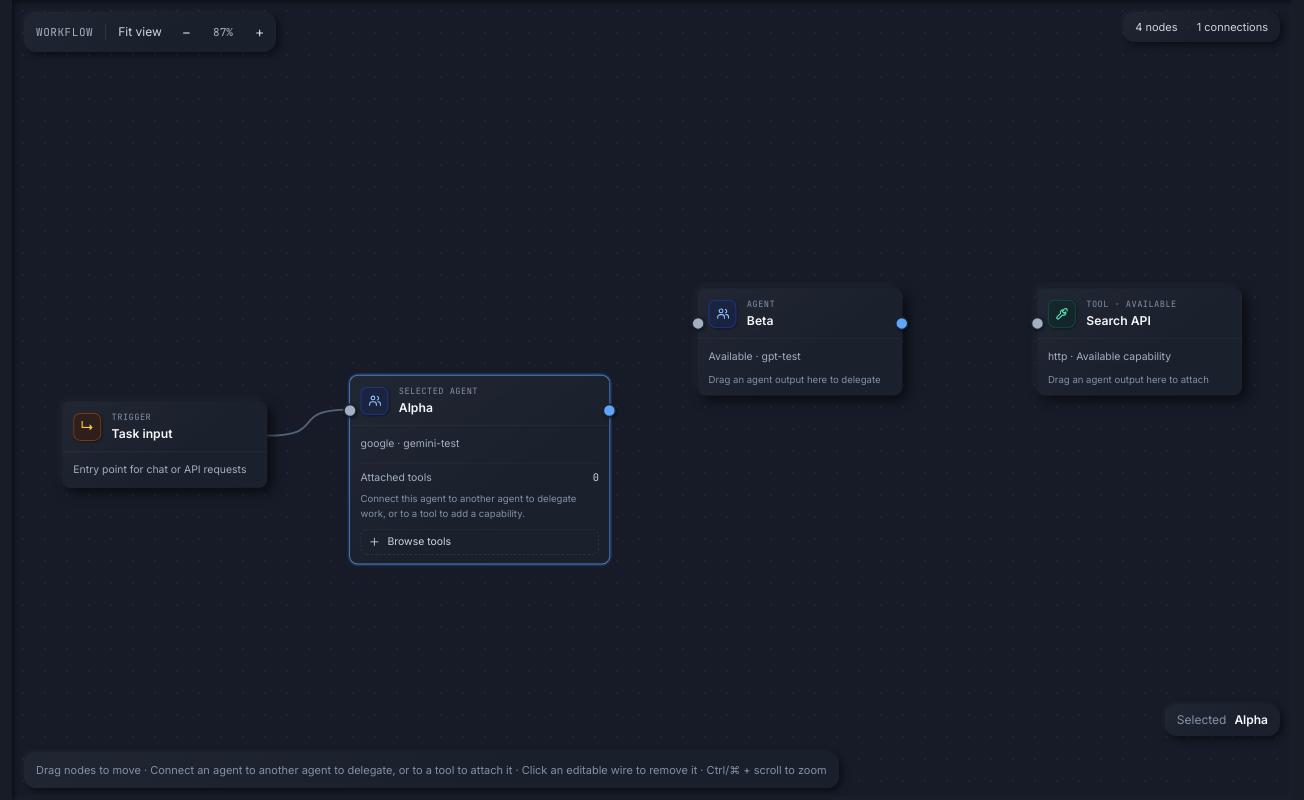
Test: WorkflowCanvas editing › connects an agent to a project tool to attach a real capability
Press the mouse on the button named "Connect from Alpha" at coordinates (609, 410), box x1=602 y1=404 x2=616 y2=417
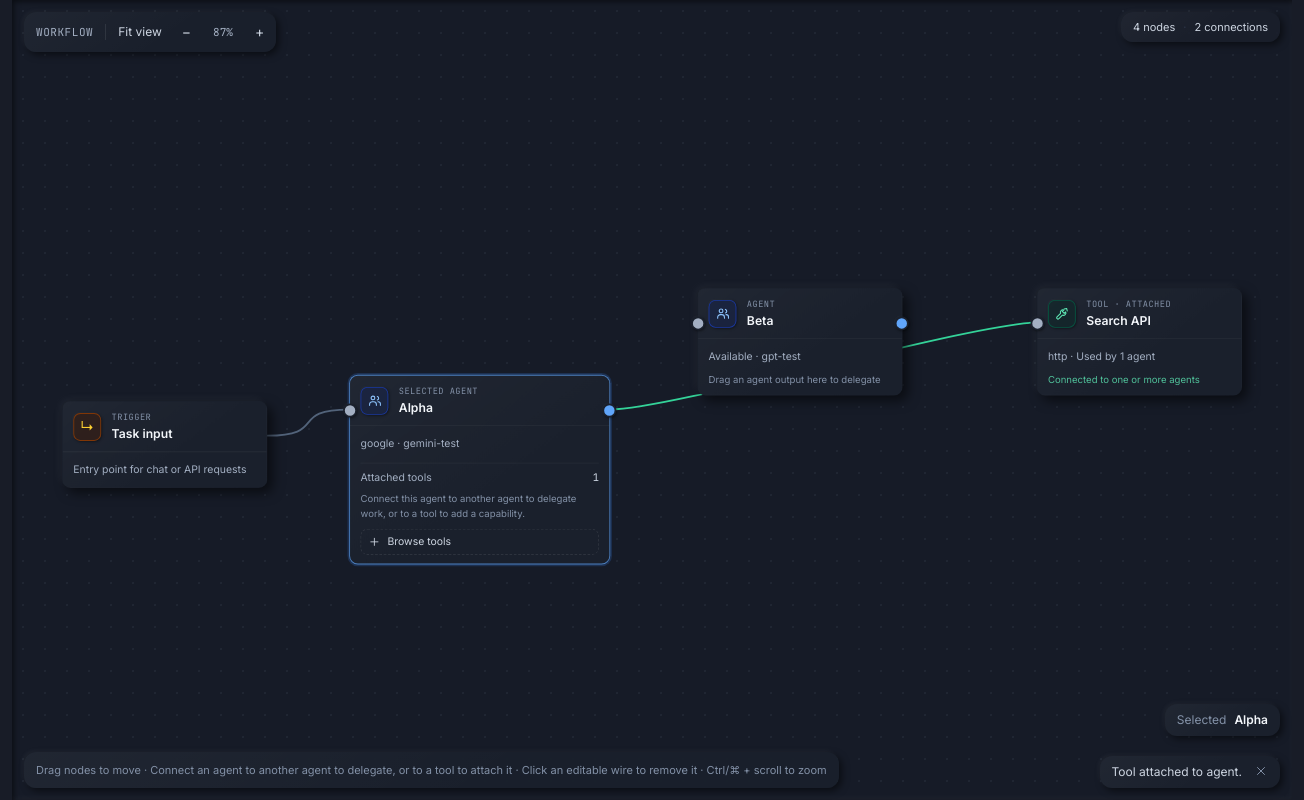
Expected: the button "Remove connection from Alpha to Search API" is shown, x1=610 y1=323 x2=1037 y2=410
Result: the message reads "Tool attached to agent." at x1=1112 y1=764 x2=1242 y2=779
